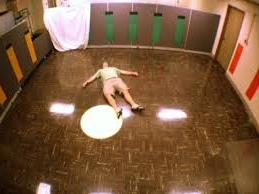fall: (81, 59, 146, 118)
